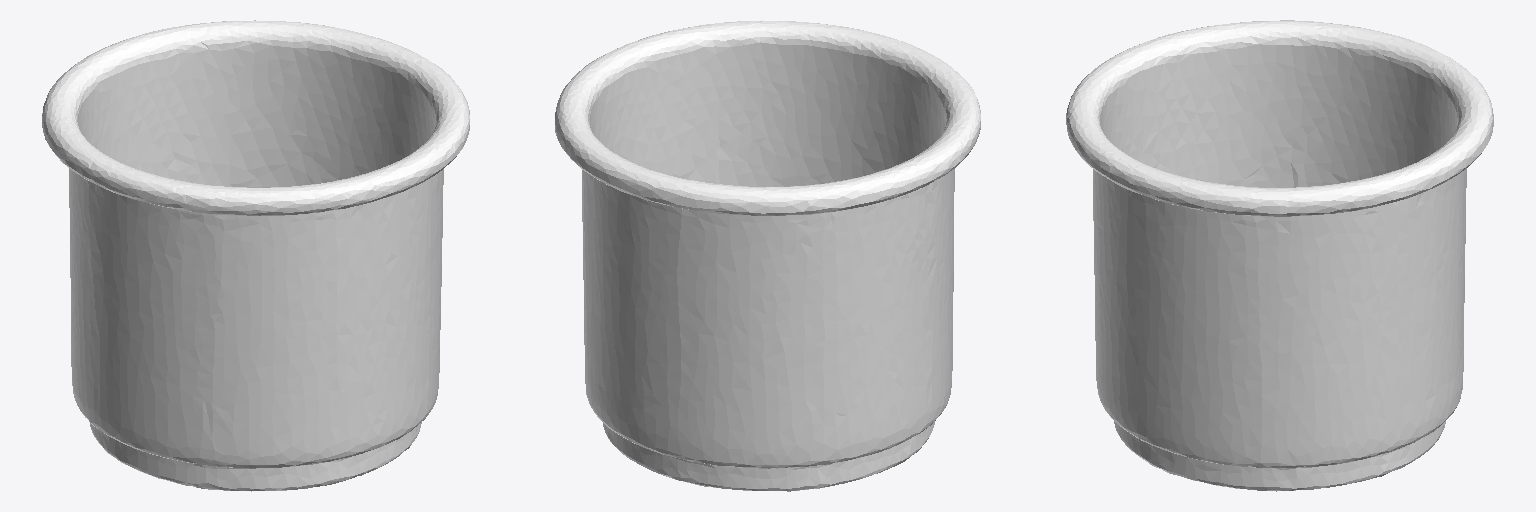
The robot description file, URDF, robot "006_mustard_bottle":
<robot name="006_mustard_bottle">
	<link name="_name">
		<visual>
			<origin xyz="0.15054331427098055 0.2310937618792766 -0.7504227100332876" rpy="0 0 0" />
			<geometry>
				<mesh filename="006_mustard_bottle/google_16k/textured.obj" scale="10 10 10" />
			</geometry>
			<material name="texture">
				<color rgba="1.0 1.0 1.0 1.0" />
			</material>
		</visual>
		<collision>
			<geometry>
				<mesh filename="006_mustard_bottle/google_16k/textured_vhacd.obj" scale="10 10 10" />
			</geometry>
		<origin xyz="0.15054331427098055 0.2310937618792766 -0.7504227100332876" rpy="0 0 0" /></collision>
		<inertial>
			<mass value="1.0" />
			<inertia ixx="1.0" ixy="0.0" ixz="0.0" iyy="1.0" iyz="0.0" izz="1.0" />
		</inertial>
	</link>
</robot>

--- Facts derived from the render (not from the file) ---
The picture shows the robot from 3 angles, left to right: view 1: azimuth 30°, elevation 25°; view 2: azimuth 150°, elevation 25°; view 3: azimuth 270°, elevation 25°; orthographic projection.
Robot: 006_mustard_bottle — 1 links, 0 joints (none); root link _name; default pose: all joints at 0.
Links seen in each view (by area): view 1: _name; view 2: _name; view 3: _name.
Boxes of the visible links, left/top/right/bottom form: _name: left=42, top=20, right=469, bottom=491; _name: left=555, top=20, right=980, bottom=491; _name: left=1066, top=20, right=1493, bottom=491.
Bounding box of the posed robot: 0.915 × 0.9162 × 0.7506 m (x, y, z).
1 mesh visuals loaded from 1 distinct referenced files (1 OBJ).